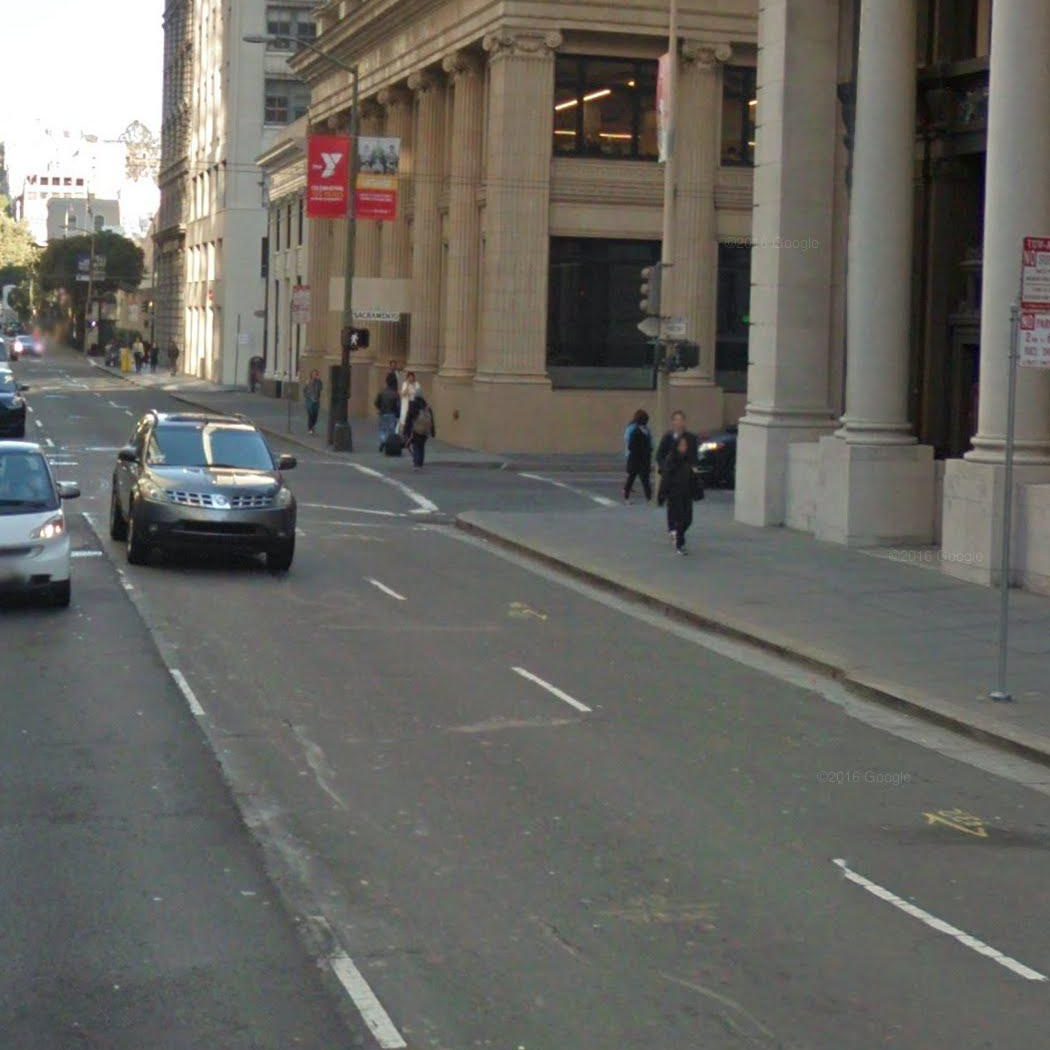No Parking: (1017, 313, 1050, 370), (293, 305, 312, 324)
